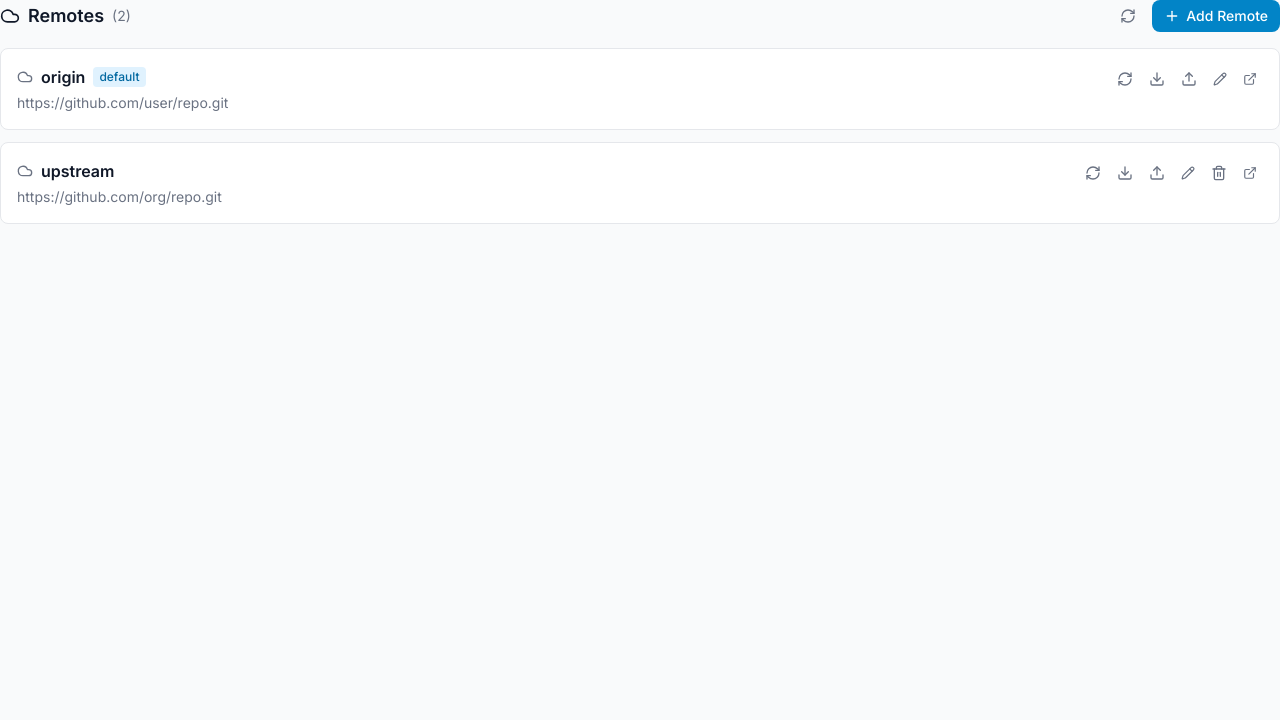
RemoteList › opens Add Remote modal on button click
Click the button "Add Remote" at {"x": 1216, "y": 16}, box 1152,0 -> 1279,32
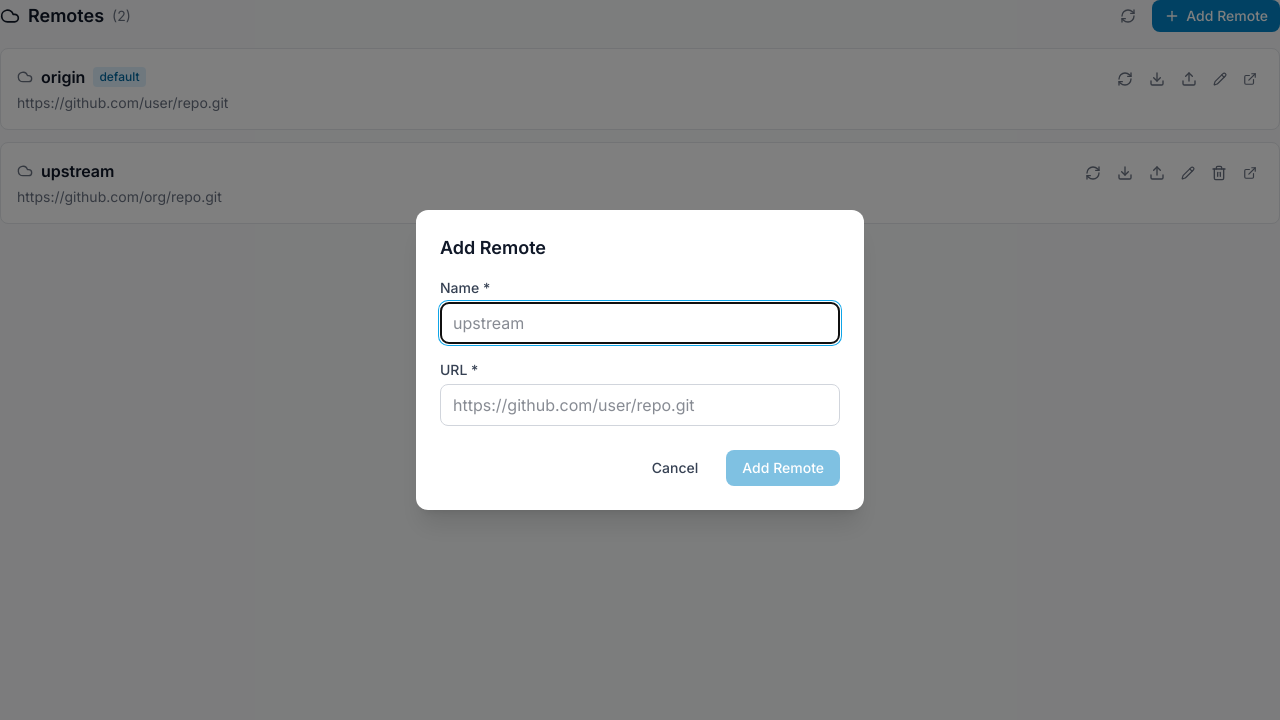
Check: the text "Name *" is shown, box 440,279 -> 490,296
Check: the text "URL *" is shown, box 440,361 -> 478,378
Check: the field with placeholder "upstream" is shown, box 440,302 -> 840,344
